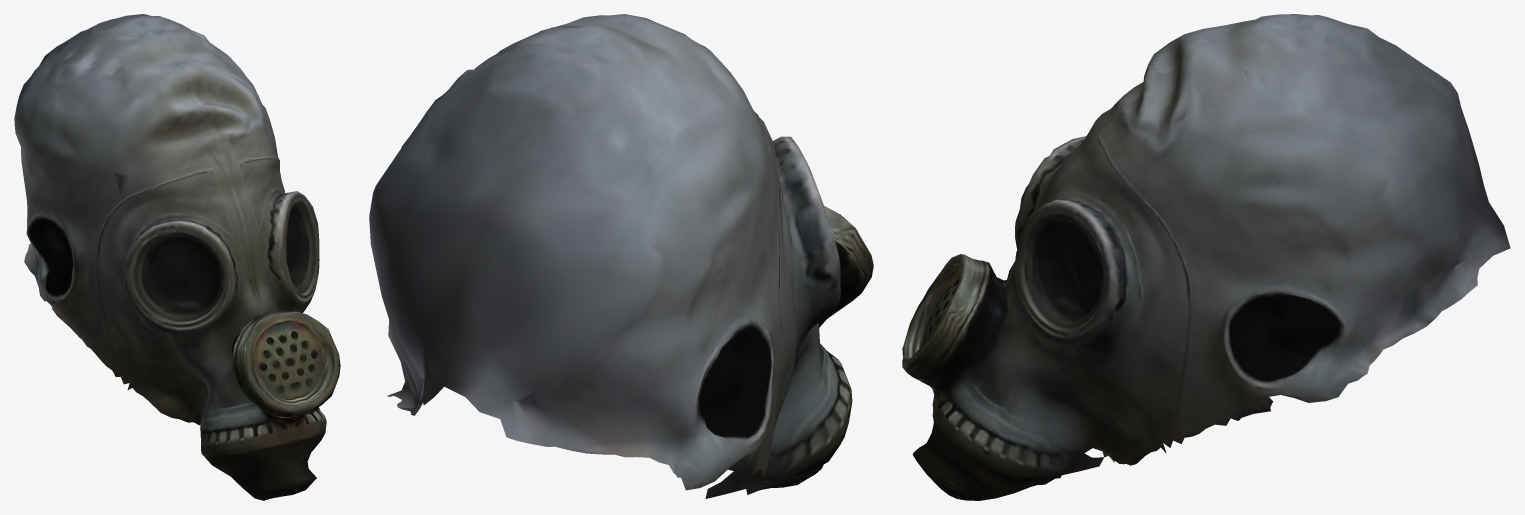
Rendered from protivogaz.glb.
3 views of the same model, side by side, from view 1: azimuth 30°, elevation 25°; view 2: azimuth 150°, elevation 25°; view 3: azimuth 270°, elevation 25° (orthographic). The views are drawn at different scales.
Visible parts, largest first — view 1: gasmask; view 2: gasmask; view 3: gasmask.
Part boxes in pixels (left/top/right/bottom): gasmask: left=14, top=14, right=340, bottom=500; gasmask: left=369, top=14, right=873, bottom=498; gasmask: left=902, top=14, right=1510, bottom=500.
Bounding box in the file's own units: 0.1428 × 0.235 × 0.28.
1 material, 1 textured.
